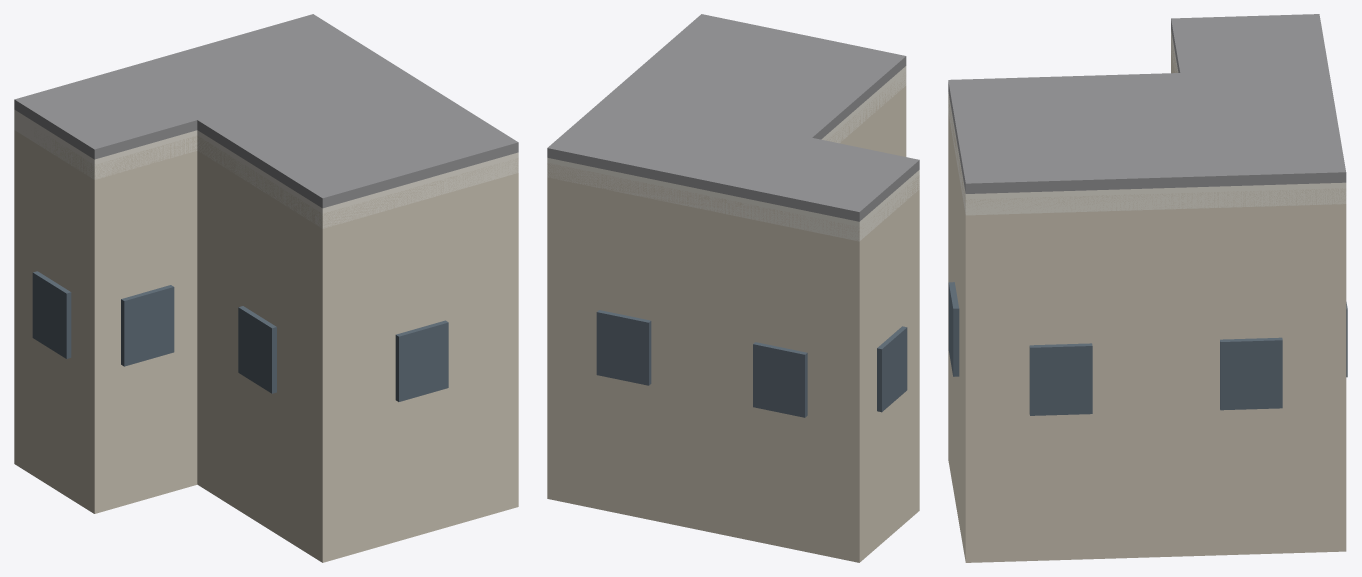
File: s58_gis_248224_820800.glb
3 renders of one model, left to right at view 1: azimuth 30°, elevation 25°; view 2: azimuth 150°, elevation 25°; view 3: azimuth 270°, elevation 25°, orthographic. The views are drawn at different scales.
Parts seen in each view (by area): view 1: mass, roofcap, cornice, win_1_0_0, win_3_0_0, win_0_0_0, win_2_0_0; view 2: mass, roofcap, cornice, win_5_0_0, win_5_0_1, win_0_0_0; view 3: mass, roofcap, cornice, win_4_0_0, win_4_0_1, win_3_0_0.
Boxes of the visible parts, bbox=[...] form: mass: bbox=[14, 128, 518, 562]; roofcap: bbox=[14, 14, 518, 208]; cornice: bbox=[14, 109, 518, 228]; win_1_0_0: bbox=[121, 285, 174, 366]; win_3_0_0: bbox=[395, 320, 448, 401]; win_0_0_0: bbox=[32, 271, 71, 358]; win_2_0_0: bbox=[238, 306, 276, 393]; mass: bbox=[547, 74, 919, 562]; roofcap: bbox=[547, 14, 919, 221]; cornice: bbox=[547, 66, 919, 241]; win_5_0_0: bbox=[596, 310, 651, 385]; win_5_0_1: bbox=[753, 342, 807, 417]; win_0_0_0: bbox=[877, 326, 907, 412]; mass: bbox=[948, 36, 1346, 562]; roofcap: bbox=[948, 14, 1346, 193]; cornice: bbox=[948, 30, 1346, 215]; win_4_0_0: bbox=[1029, 343, 1092, 415]; win_4_0_1: bbox=[1220, 337, 1282, 410]; win_3_0_0: bbox=[948, 282, 959, 376].
Bounding box in the file's own units: 8.1 × 8.35 × 7.97.
